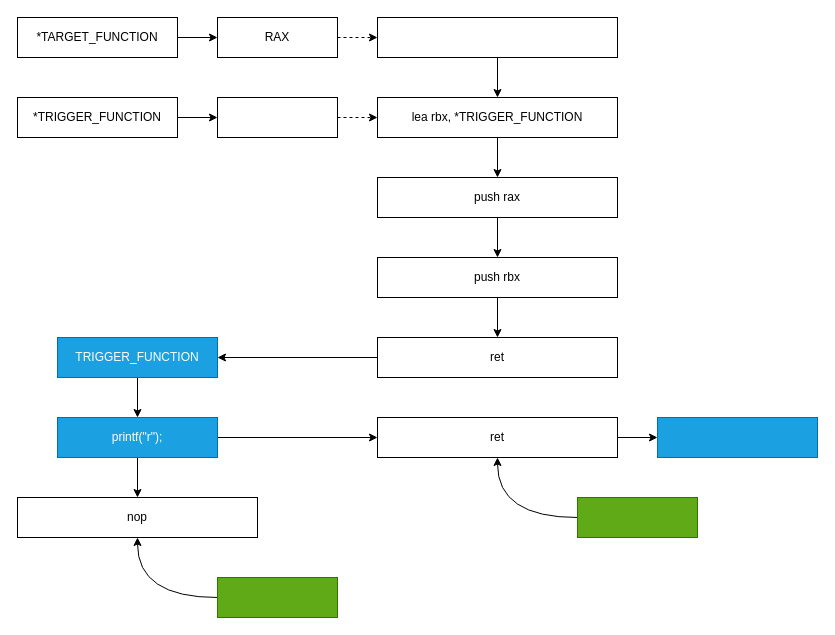
Image size: 835x635. Some labels were removed from this diagram. The shapes that lost their labels are listed below. From the top down, each one's centre as x and y in pixels, then its label:
pixel 497 37: lea rax, *TARGET_FUNCTION
pixel 277 117: RBX
pixel 737 437: TARGET_FUNCTION
pixel 637 517: libc RETURN
pixel 277 597: CFG DETECTS FUNC_END
